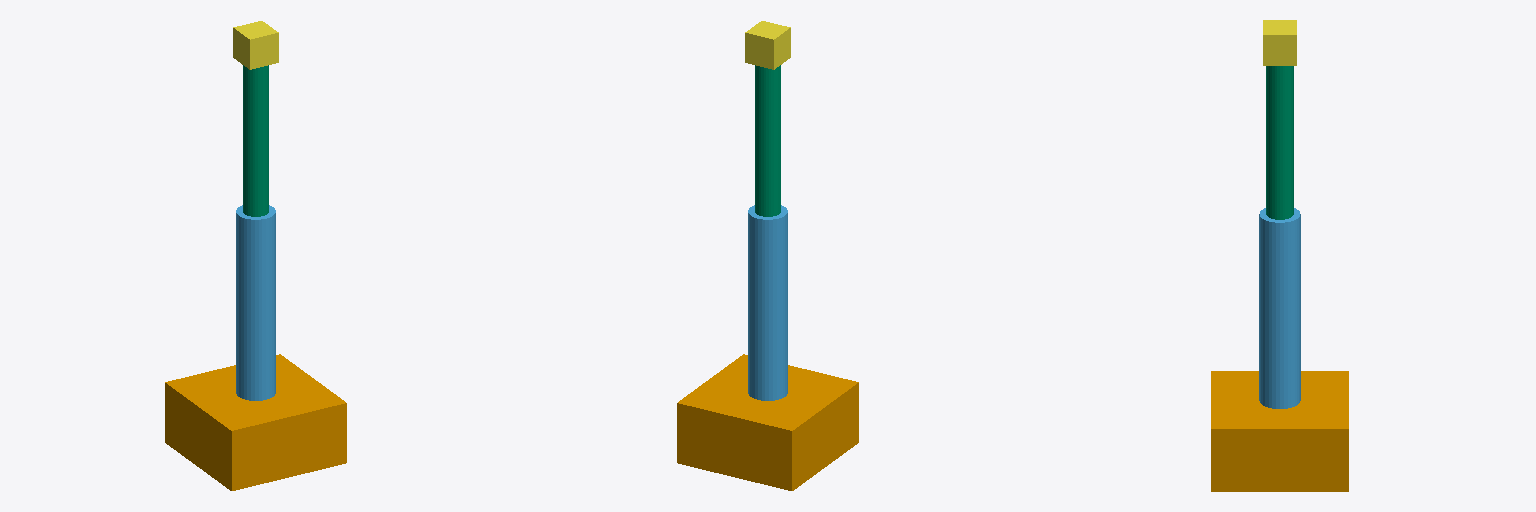
URDF robot description (simple_arm_v1):
<?xml version="1.0"?>
<robot name="simple_arm_v1">
  <link name="base_link">
    <inertial>
      <origin xyz="0 0 0.05" rpy="0 0 0"/>
      <mass value="2.0"/>
      <inertia ixx="0.01" ixy="0" ixz="0" iyy="0.01" iyz="0" izz="0.01"/>
    </inertial>
    <visual>
      <origin xyz="0 0 0.05" rpy="0 0 0"/>
      <geometry><box size="0.2 0.2 0.1"/></geometry>
    </visual>
  </link>

  <link name="link_1">
    <inertial>
      <origin xyz="0 0 0.15" rpy="0 0 0"/>
      <mass value="1.0"/>
      <inertia ixx="0.0083" ixy="0" ixz="0" iyy="0.0083" iyz="0" izz="0.0001"/>
    </inertial>
    <visual>
      <origin xyz="0 0 0.15" rpy="0 0 0"/>
      <geometry><cylinder length="0.3" radius="0.03"/></geometry>
    </visual>
  </link>

  <link name="link_2">
    <inertial>
      <origin xyz="0 0 0.125" rpy="0 0 0"/>
      <mass value="0.5"/>
      <inertia ixx="0.0042" ixy="0" ixz="0" iyy="0.0042" iyz="0" izz="0.00005"/>
    </inertial>
    <visual>
      <origin xyz="0 0 0.125" rpy="0 0 0"/>
      <geometry><cylinder length="0.25" radius="0.02"/></geometry>
    </visual>
  </link>

  <link name="ee_link">
    <inertial>
      <origin xyz="0 0 0.025" rpy="0 0 0"/>
      <mass value="0.1"/>
      <inertia ixx="0.00001" ixy="0" ixz="0" iyy="0.00001" iyz="0" izz="0.00001"/>
    </inertial>
    <visual>
      <origin xyz="0 0 0.025" rpy="0 0 0"/>
      <geometry><box size="0.05 0.05 0.05"/></geometry>
    </visual>
  </link>

  <joint name="joint_1" type="revolute">
    <parent link="base_link"/>
    <child link="link_1"/>
    <origin xyz="0 0 0.1" rpy="0 0 0"/>
    <axis xyz="0 0 1"/>
    <limit lower="-3.14159" upper="3.14159" effort="100" velocity="1.5"/>
  </joint>

  <joint name="joint_2" type="revolute">
    <parent link="link_1"/>
    <child link="link_2"/>
    <origin xyz="0 0 0.3" rpy="0 0 0"/>
    <axis xyz="0 1 0"/>
    <limit lower="-1.57" upper="1.57" effort="50" velocity="2.0"/>
  </joint>

  <joint name="joint_ee" type="fixed">
    <parent link="link_2"/>
    <child link="ee_link"/>
    <origin xyz="0 0 0.25" rpy="0 0 0"/>
  </joint>
</robot>

--- What the picture shows (computed from the rendered views, not written in the file) ---
Views: 3 orthographic renders of the robot side by side, from view 1: azimuth 30°, elevation 25°; view 2: azimuth 150°, elevation 25°; view 3: azimuth 270°, elevation 25°.
Model simple_arm_v1 with 4 links and 3 joints (2 revolute, 1 fixed), rooted at base_link, posed all joints at 0.
Visible links, largest first — view 1: base_link, link_1, link_2, ee_link; view 2: base_link, link_1, link_2, ee_link; view 3: base_link, link_1, link_2, ee_link.
Link boxes in pixels (x1,y1,x2,y2): base_link: (165,354,346,490); link_1: (236,205,275,400); link_2: (243,65,268,216); ee_link: (233,21,278,69); base_link: (677,354,858,490); link_1: (748,205,787,400); link_2: (755,65,780,216); ee_link: (745,21,790,69); base_link: (1211,371,1348,491); link_1: (1259,208,1300,408); link_2: (1266,66,1293,219); ee_link: (1263,20,1296,65).
Size in the robot's own frame: 0.2 by 0.2 by 0.7 metres.
Geometry: primitives only (box / cylinder / sphere), no mesh files.
